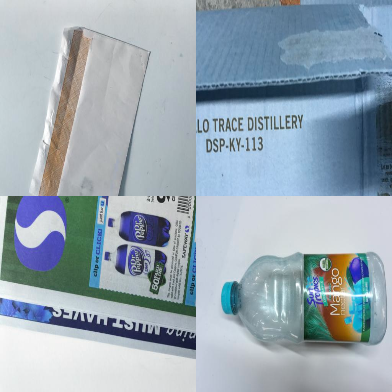cardboard: (197, 1, 392, 196)
paper: (1, 196, 196, 360), (29, 25, 152, 195)
plastic: (222, 252, 387, 346)
